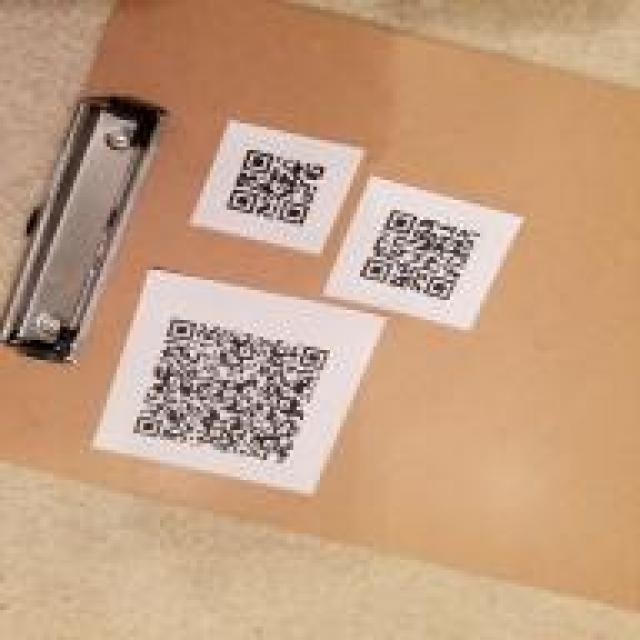qr_code: (131, 316, 332, 467), (358, 208, 484, 302), (225, 149, 328, 228)
